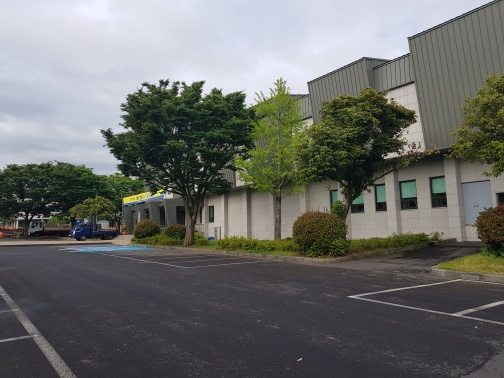Gym: (120, 15, 491, 248)
